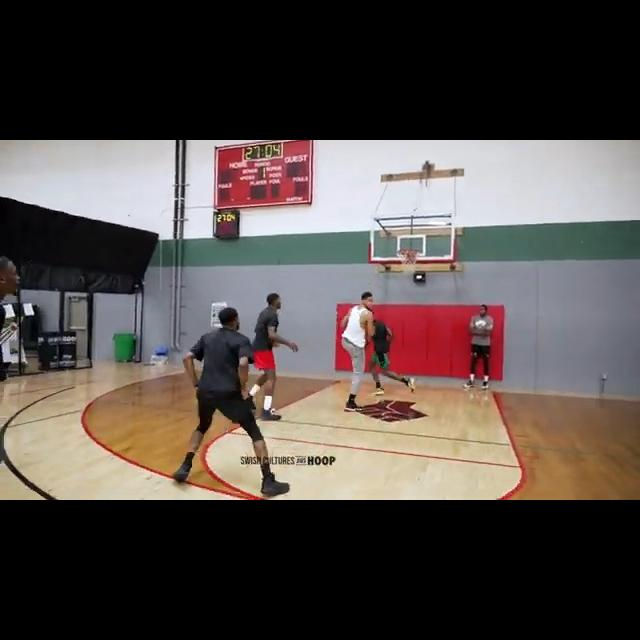hoop: (397, 249, 421, 277)
